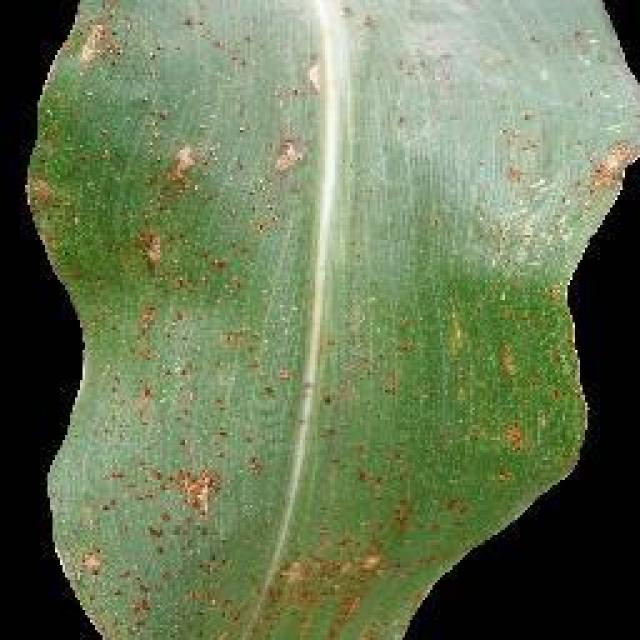Corn Common Rust: (80, 19, 503, 514)
